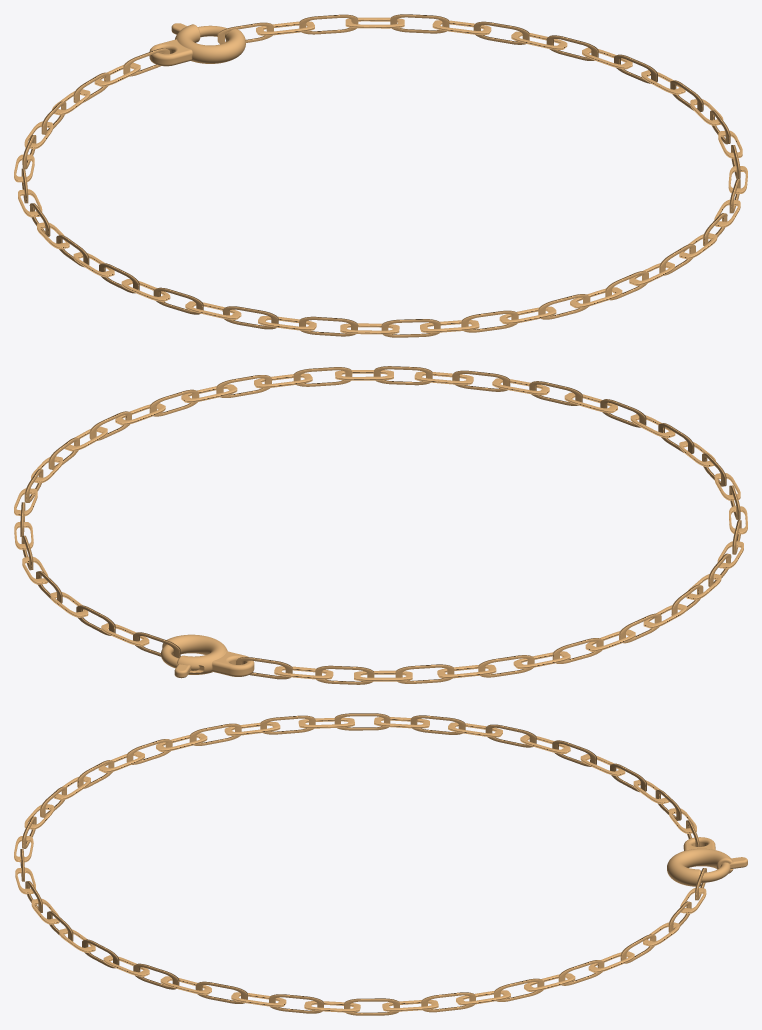
File: BRACELET14.glb
3 renders of one model, top to bottom at view 1: azimuth 30°, elevation 25°; view 2: azimuth 150°, elevation 25°; view 3: azimuth 270°, elevation 25°, orthographic. The views are drawn at different scales.
Visible parts, largest first — view 1: object_1; view 2: object_1; view 3: object_1, object_2.
Part boxes in pixels (x1,y1,x2,y2): object_1: [149, 24, 245, 66]; object_1: [162, 634, 254, 676]; object_1: [667, 837, 733, 886]; object_2: [701, 857, 747, 882].
Bounding box in the file's own units: 2.75 × 0.0737 × 2.91.
